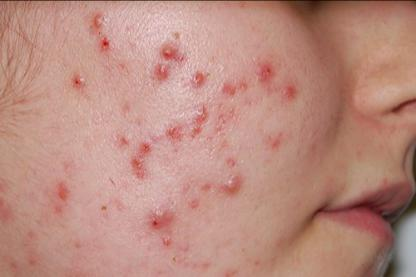Nodules: (94, 198, 112, 215)
Papules: (142, 202, 179, 230), (252, 58, 279, 85), (274, 82, 301, 105), (186, 103, 213, 122), (162, 122, 187, 142), (187, 124, 206, 139), (138, 139, 157, 154), (129, 153, 146, 169), (117, 136, 131, 147)
acne scar: (49, 178, 74, 203), (230, 75, 249, 101), (221, 152, 244, 169), (132, 167, 152, 185), (216, 80, 235, 98), (23, 253, 41, 272), (198, 178, 216, 194), (185, 197, 203, 211), (7, 258, 19, 270)
pustules: (154, 40, 188, 63), (218, 169, 245, 195), (184, 67, 209, 90), (95, 31, 119, 53), (65, 72, 89, 92), (148, 62, 170, 83), (86, 10, 108, 28), (189, 70, 208, 87), (159, 231, 174, 245)
